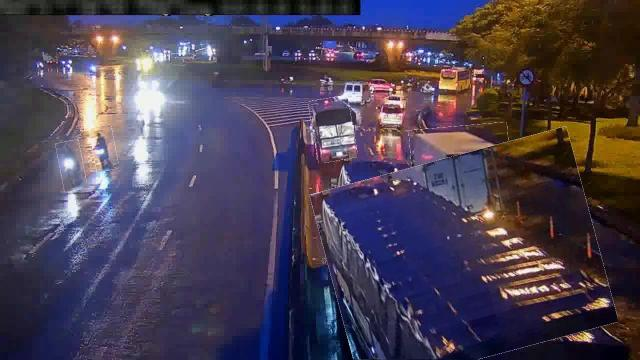Bike: (57, 141, 85, 192), (91, 125, 117, 171)
Truck: (320, 141, 608, 359), (411, 124, 513, 228), (310, 97, 356, 163)
